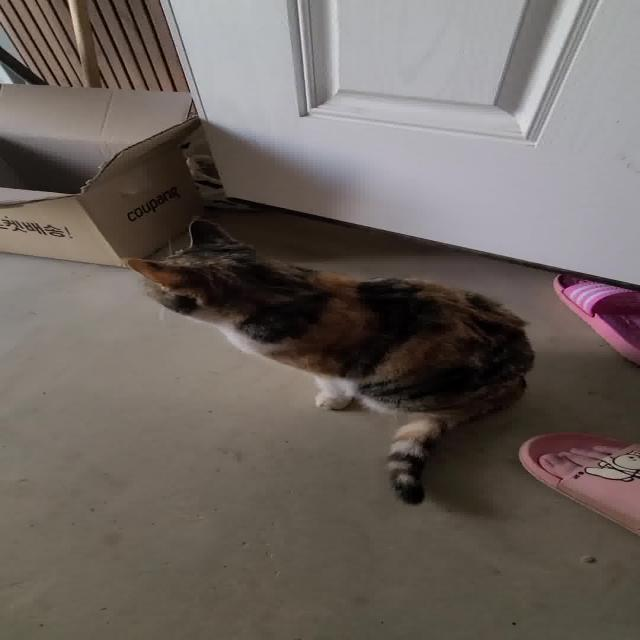cat: (110, 212, 535, 509)
